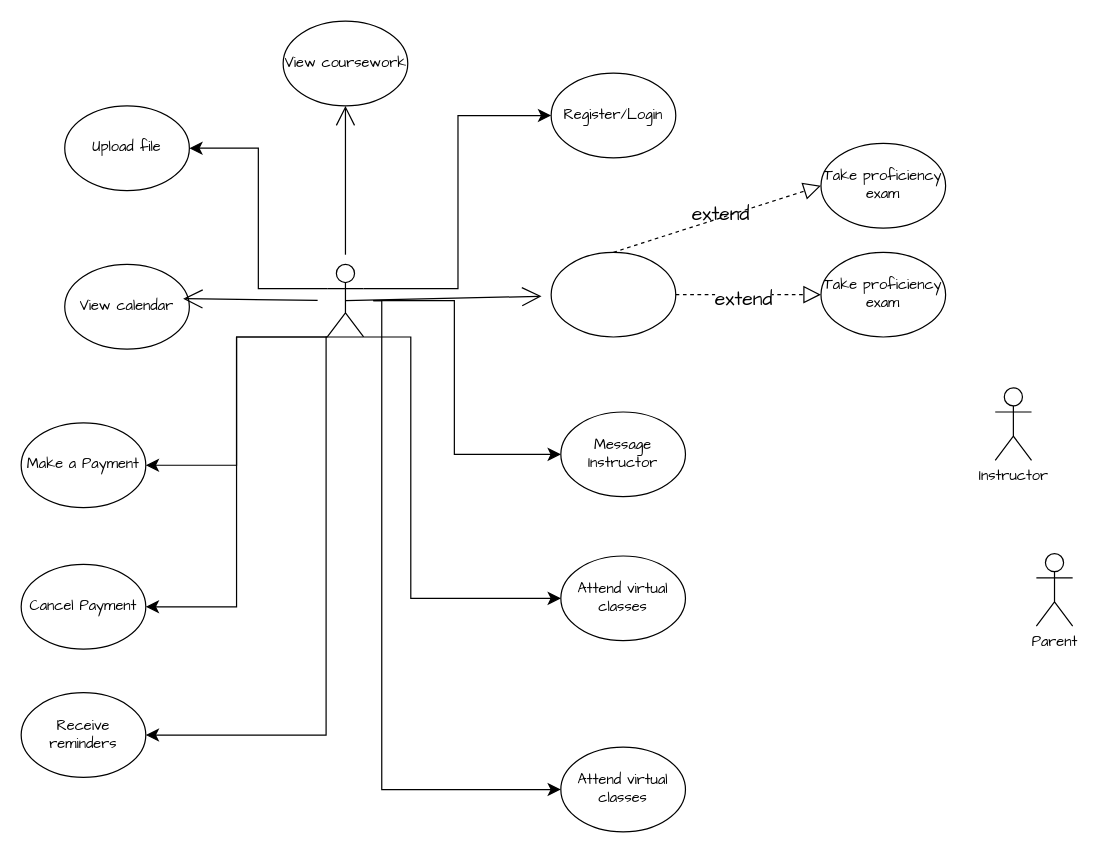
This 1099x853 diagram has some shape labels left out. The shapes that lost their labels are listed below. From the top down, each one's box as (x1, y1, x2, y2) in pixels, then its label:
(326, 263, 364, 337): Student
(550, 251, 676, 337): Take exam
